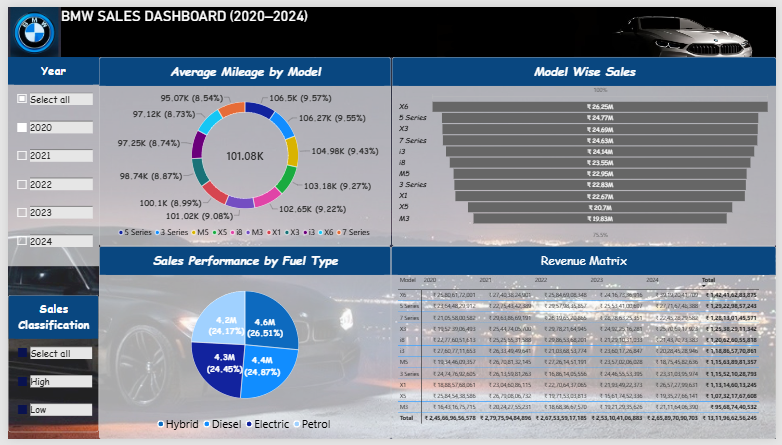

The dashboard page shown, as its layout file describes it:
{"tool":"powerbi","page":{"name":"Dashboard2","canvas":[1920,1080],"ordinal":14},"visuals":[{"type":"image","box":[0,0,131.8,125.3],"z":0},{"type":"image","box":[1071.4,0,848.9,125.3],"z":1000},{"type":"textbox","title":"BMW SALES DASHBOARD (2020–2024)","box":[131.8,0,939.6,125.3],"z":2000},{"type":"funnel","title":"Model Wise Sales","fields":{"Category":["Order details.Model"],"Y":["Sum(Order details.Price(USD))"]},"box":[959,125.3,961.2,473],"z":3000},{"type":"slicer","title":"Year","fields":{"Values":["Sales Details.Year"]},"box":[0,125.3,227.5,522.5],"z":5000},{"type":"pivotTable","title":"Revenue Matrix","fields":{"Columns":["Order details.Year"],"Rows":["Order details.Model"],"Values":["Sum(Order details.Revenue)"]},"box":[957.5,597.5,962.5,482.5],"z":6000},{"type":"pieChart","title":"Sales Performance by Fuel Type","fields":{"Category":["Order details.Fuel Type"],"Y":["Sum(Order details.Sales_Volume)"]},"box":[227.5,597.5,730,482.5],"z":7000},{"type":"slicer","title":"Sales Classification","fields":{"Values":["Order details.Sales_Classification"]},"box":[0,719.3,226.8,343.4],"z":8000},{"type":"donutChart","title":"Average Mileage by Model","fields":{"Category":["Order details.Model"],"Y":["Avg(Order details.Mileage(KM))"]},"box":[227.5,125,730,472.5],"z":8001}]}

Visuals, with their boxes in screenshot pixels (x1, y1, x2, y2), scaled from the page's 1920x1080 canvas onto the 782x445 screenshot:
image: [0,0,54,52]
image: [436,0,781,52]
"BMW SALES DASHBOARD (2020–2024)" textbox: [54,0,436,52]
"Model Wise Sales" funnel: [391,52,781,247]
"Year" slicer: [0,52,93,267]
"Revenue Matrix" pivotTable: [390,246,781,444]
"Sales Performance by Fuel Type" pieChart: [93,246,390,444]
"Sales Classification" slicer: [0,296,92,438]
"Average Mileage by Model" donutChart: [93,52,390,246]
